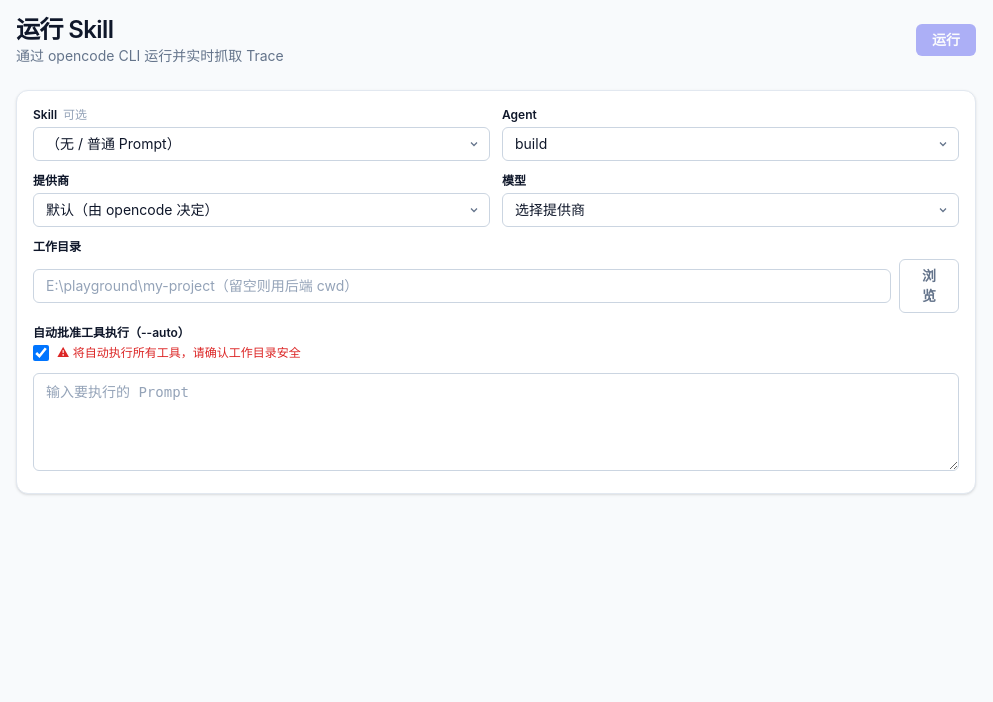
Test: RunPage › renders live events in the stream
This screenshot has width=993, height=702.
Type "list files" into the text box with placeholder "输入要执行的 Prompt".
click(496, 422); type("list files")  # box [33,373,959,471]
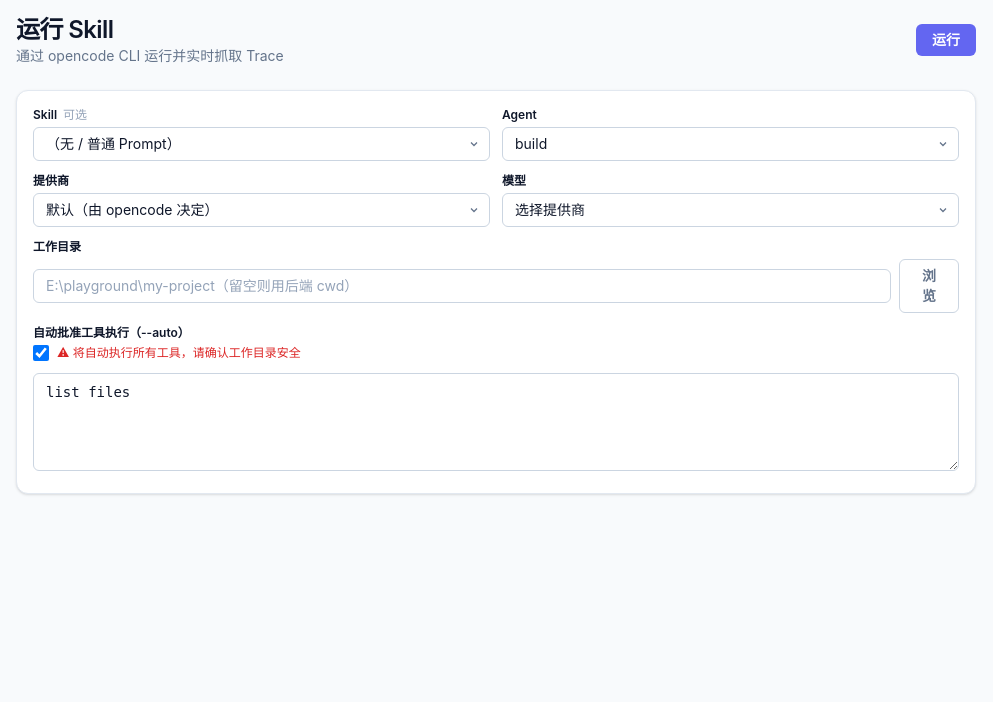
Click the button "运行".
click(946, 40)  # box [916,24,976,56]
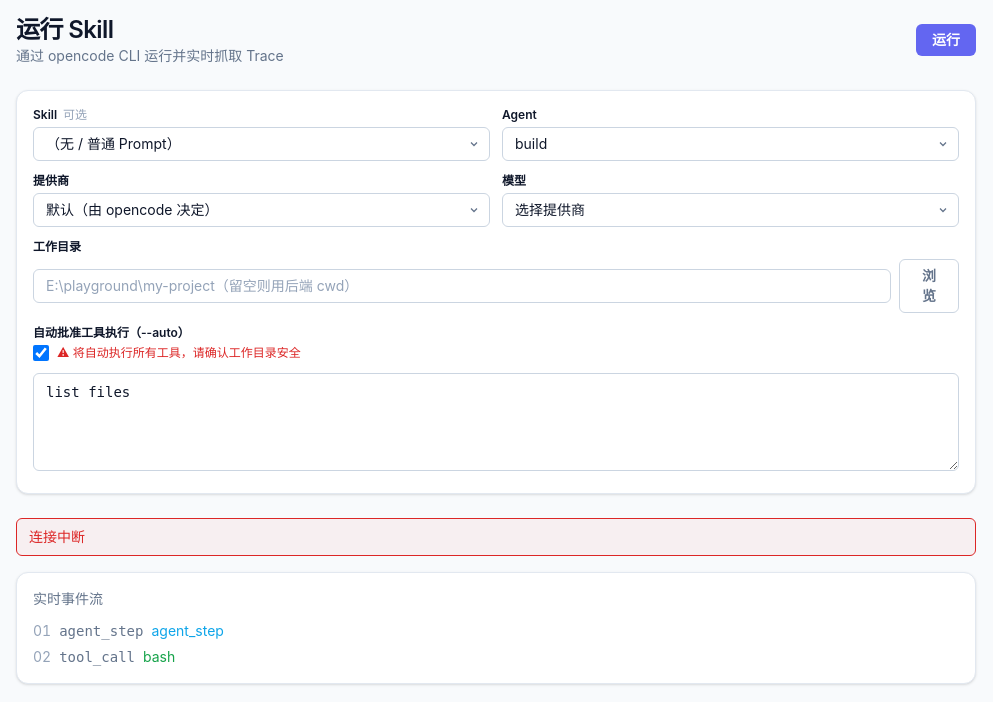
Expected: the text "bash" is shown, [143,647,175,667]
Expected: the text "tool_call" is shown, [59,647,135,667]
